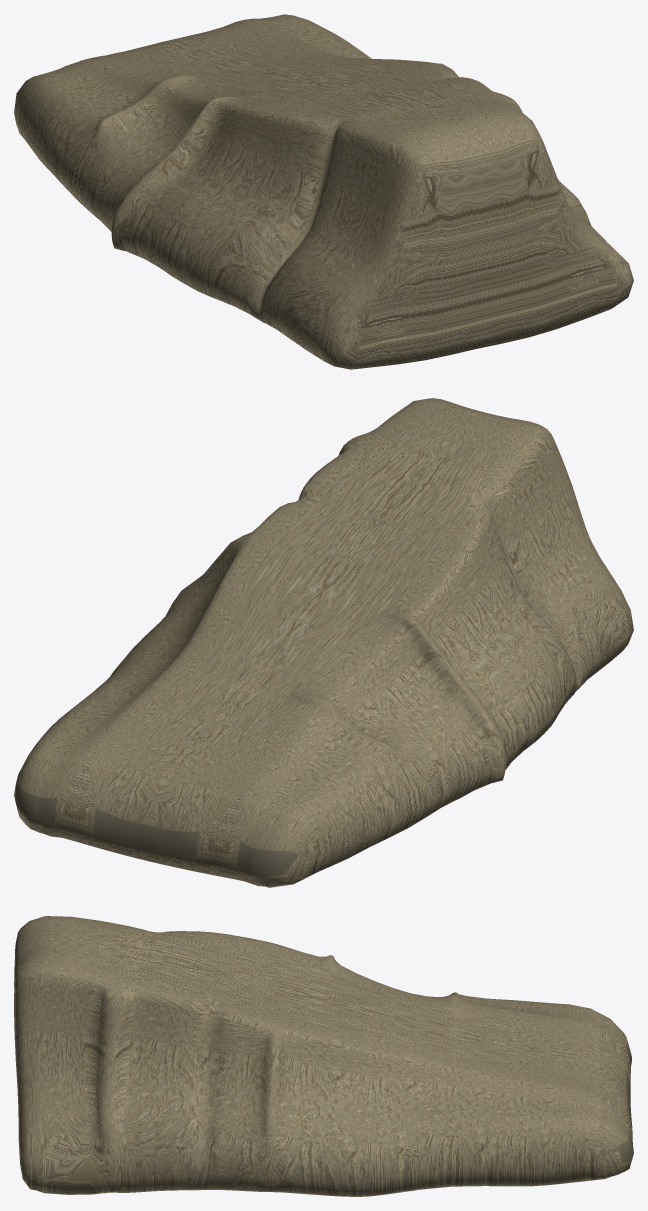
Rendered from saltmine_ramp_01.dae.
3 views of the same model, one above another, from view 1: azimuth 30°, elevation 25°; view 2: azimuth 150°, elevation 25°; view 3: azimuth 270°, elevation 25° (orthographic). The views are drawn at different scales.
Visible parts, largest first — view 1: ramp_01; view 2: ramp_01; view 3: ramp_01.
Boxes of the visible parts, box(x1,y1,x2,y2) form: ramp_01: box(14, 14, 633, 369); ramp_01: box(14, 398, 633, 887); ramp_01: box(14, 916, 633, 1196).
Size of the model in its own units: 11.58 by 6.73 by 18.46.
